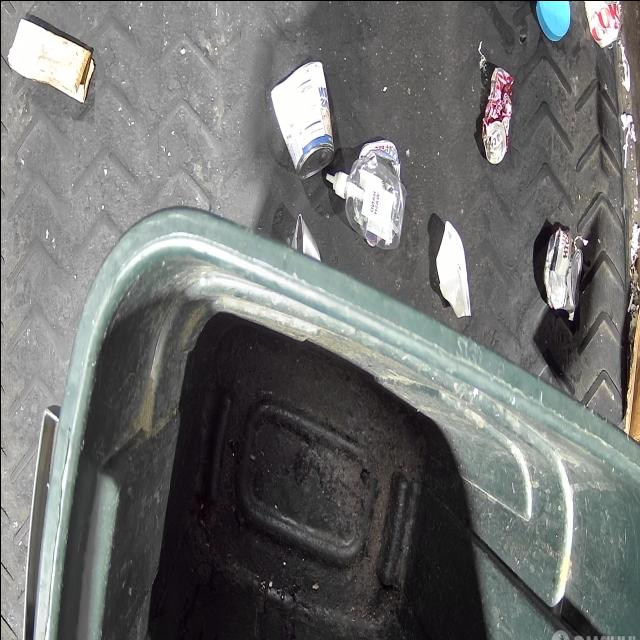can: (270, 61, 334, 179), (480, 65, 516, 164), (544, 226, 582, 312), (583, 0, 624, 51), (288, 214, 320, 260)
